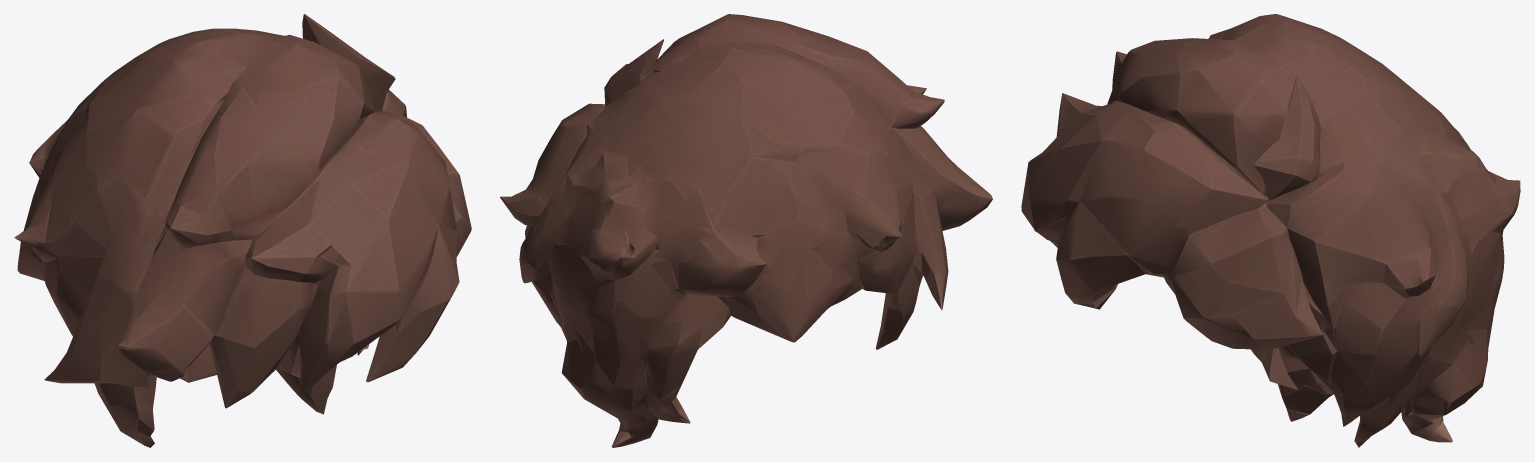
The model's file is boy-default.glb.
3 views of the same model, side by side, from view 1: azimuth 30°, elevation 25°; view 2: azimuth 150°, elevation 25°; view 3: azimuth 270°, elevation 25° (orthographic). The views are drawn at different scales.
Bounding box in the file's own units: 1.74 × 1.61 × 1.9.
Materials: 1 (1 with a texture image).
